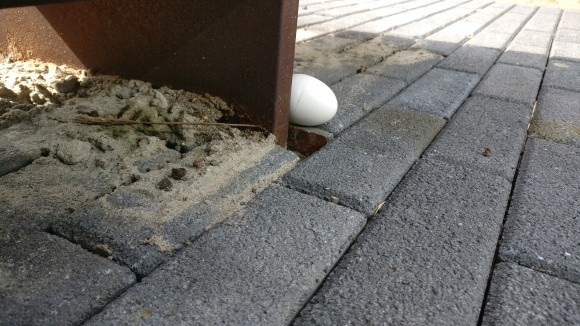egg: (287, 73, 338, 127)
